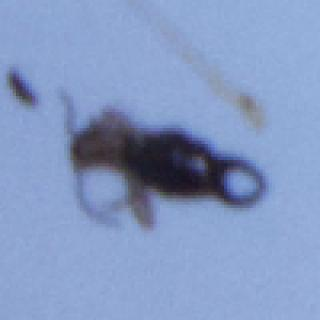earwig: (52, 80, 273, 240)
